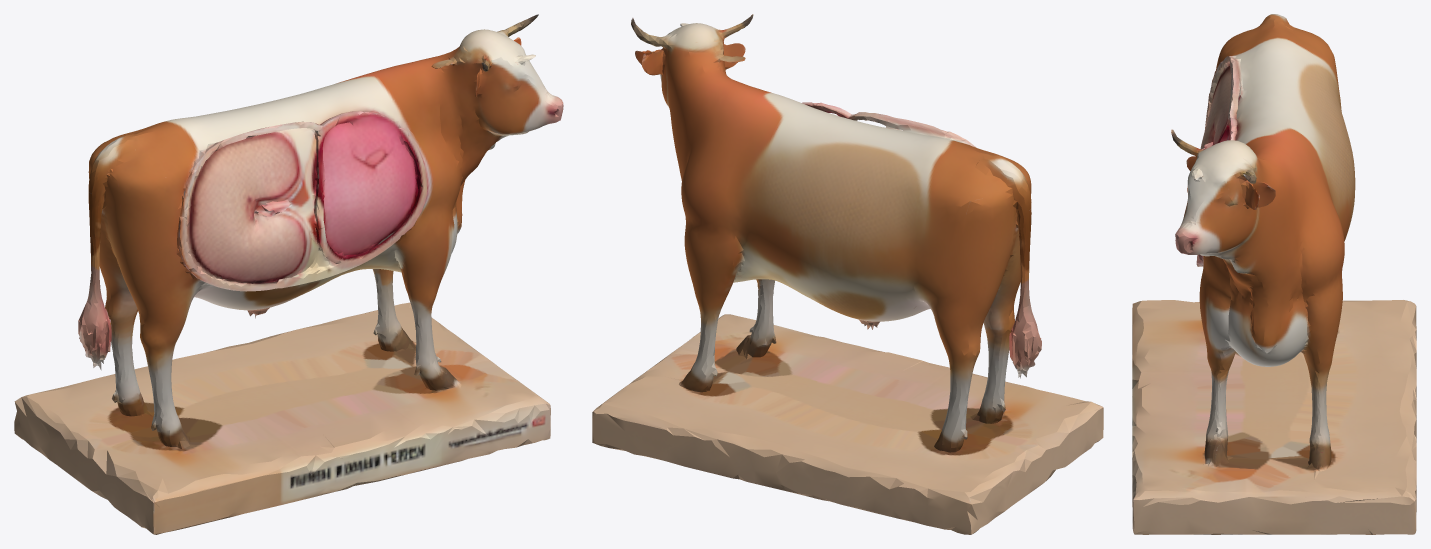
File: cow_rumen.glb
The picture shows the model from 3 angles, left to right: view 1: azimuth 30°, elevation 25°; view 2: azimuth 150°, elevation 25°; view 3: azimuth 270°, elevation 25°; orthographic projection. The views are drawn at different scales.
Visible parts, largest first — view 1: model; view 2: model; view 3: model.
Boxes of the visible parts, x1,y1,x2,y2 form: model: [14, 14, 563, 534]; model: [592, 14, 1103, 534]; model: [1132, 14, 1416, 534].
Size of the model in its own units: 1.9 by 1.54 by 1.03.
Materials: 1 (1 with a texture image).
